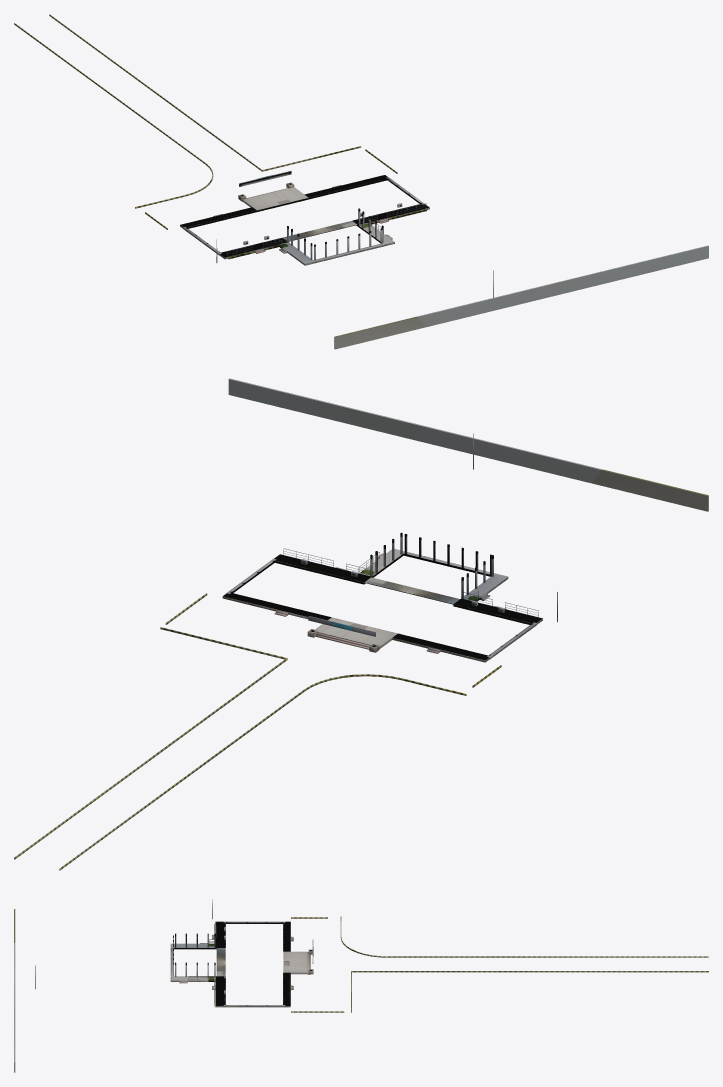
File: world_ext0.glb
The picture shows the model from 3 angles, top to bottom: view 1: azimuth 30°, elevation 25°; view 2: azimuth 150°, elevation 25°; view 3: azimuth 270°, elevation 25°; orthographic projection. The views are drawn at different scales.
Visible parts, largest first — view 1: W_ext0; view 2: W_ext0; view 3: W_ext0.
Boxes of the visible parts, x1,y1,x2,y2 form: W_ext0: [14, 14, 708, 349]; W_ext0: [14, 378, 708, 870]; W_ext0: [14, 899, 708, 1072].
Size of the model in its own units: 71 by 5.07 by 134.
1 material, 1 textured.
